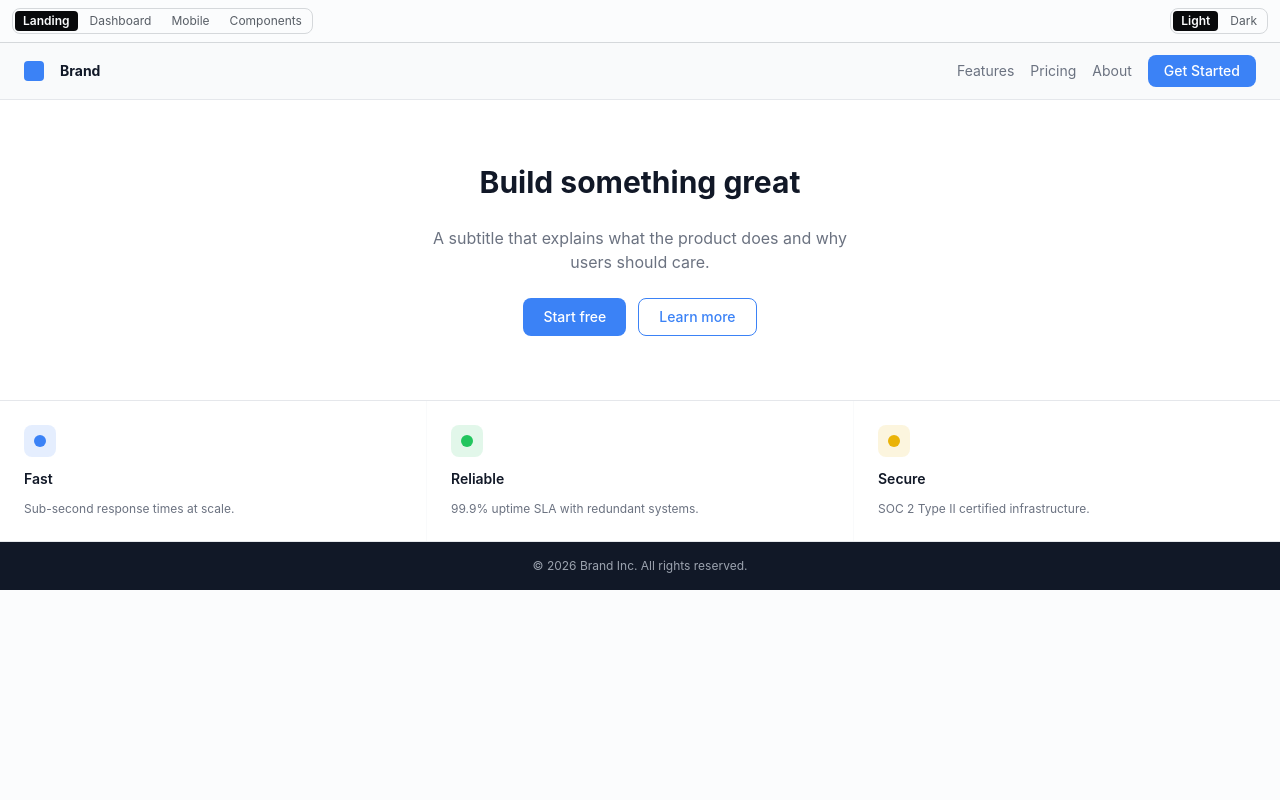
Scenario: PreviewTab › switches to dashboard scene on tab click
This screenshot has width=1280, height=800.
Step 1. Click the button "Dashboard" → (120, 21), box left=82, top=11, right=159, bottom=31
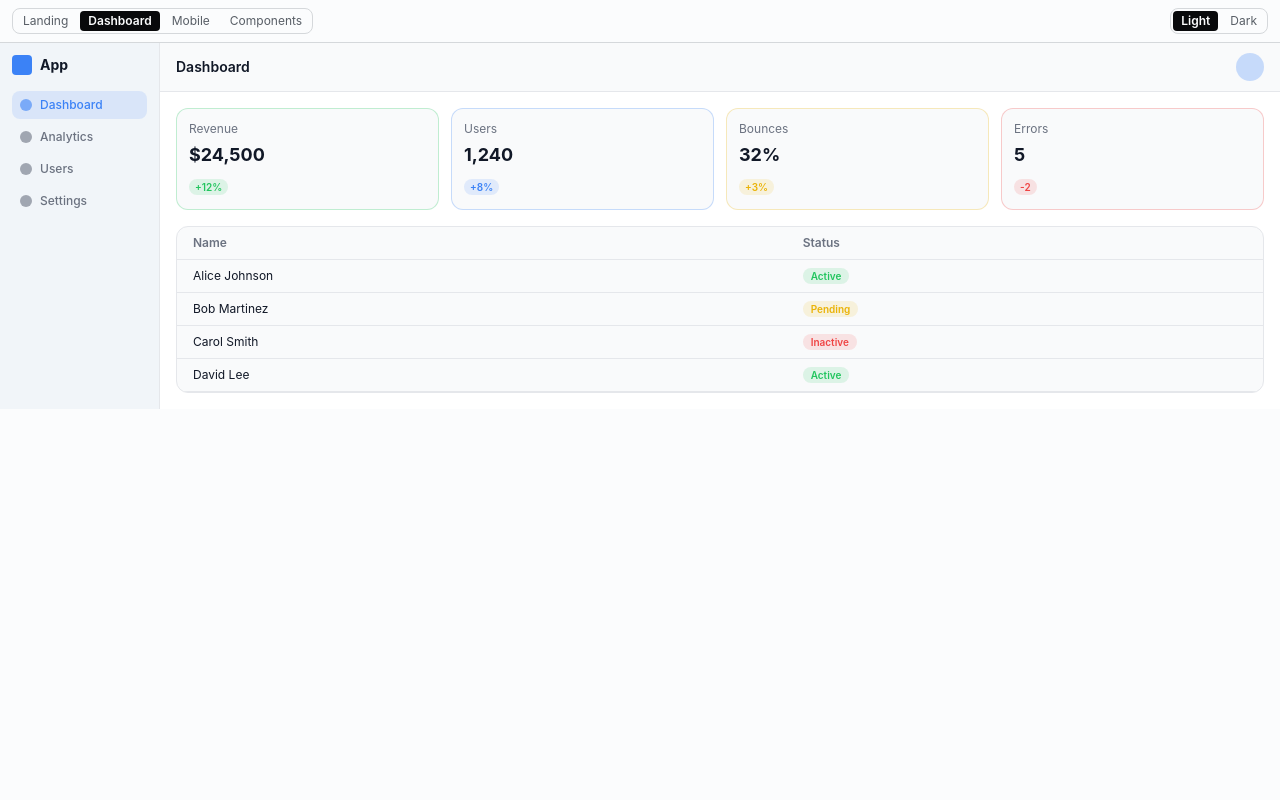
Result: the element with test id "dashboard-scene" is shown at left=0, top=43, right=1279, bottom=409
